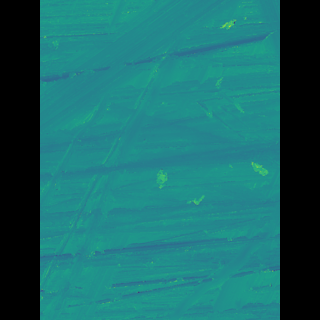Loch: (70, 0, 222, 139), (166, 231, 240, 319)
